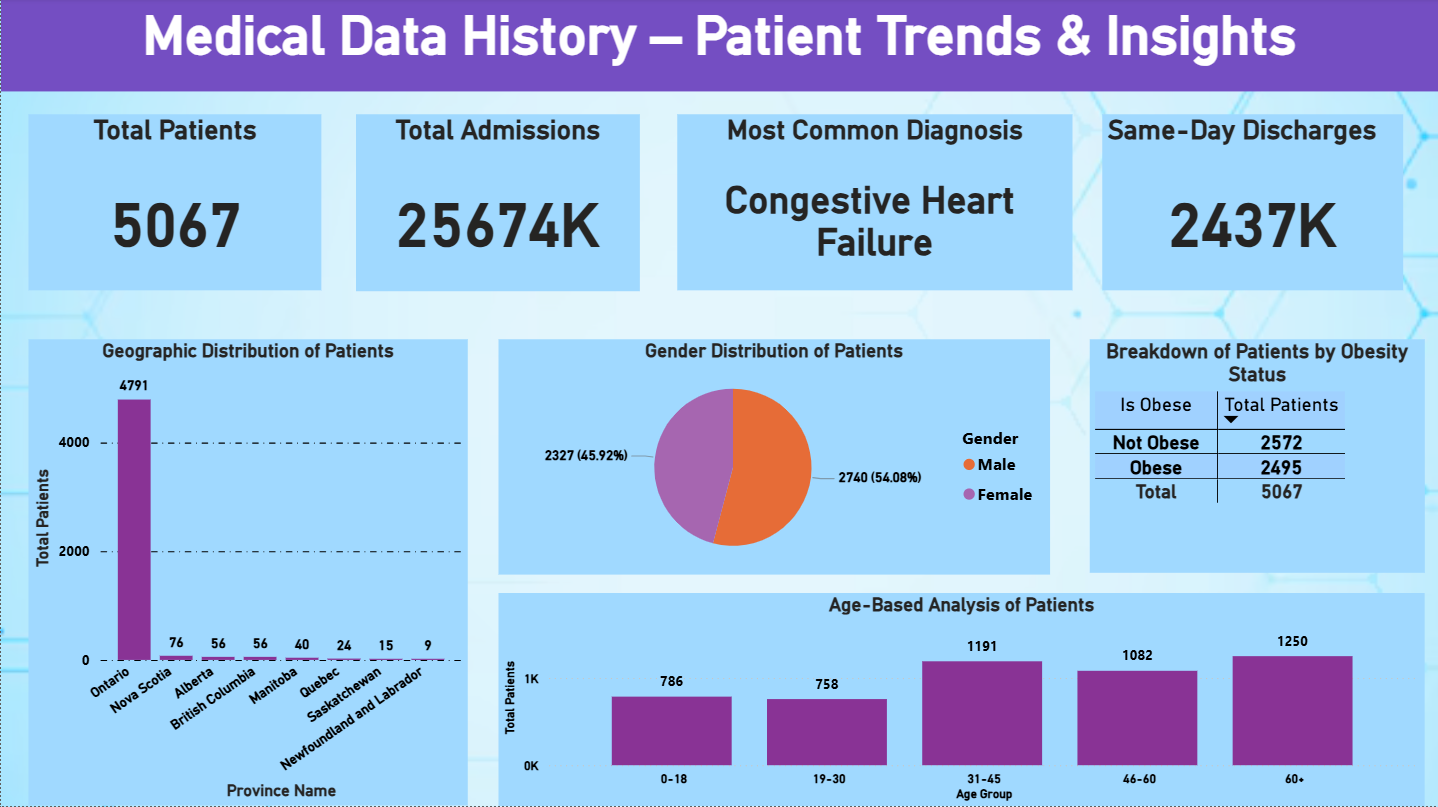

What the dashboard file says about the page in this screenshot:
{"tool":"powerbi","page":{"name":"Medical Data History Analysis","canvas":[1280,720],"ordinal":0},"visuals":[{"type":"textbox","box":[0,0,1280.2,83.5],"z":0},{"type":"pieChart","title":"Gender Distribution of Patients","fields":{"Category":["Project2.gender"],"Y":["Project2.Total Patients"]},"box":[443,303.9,490.9,209.3],"z":1000},{"type":"card","title":"Total Patients","fields":{"Values":["Project2.Total Patients"]},"box":[24.4,103.3,261.1,156.7],"z":2000},{"type":"card","title":"Total Admissions","fields":{"Values":["Sum(Project2.Total Admissions)"]},"box":[316,103.9,252.5,157.3],"z":3000},{"type":"card","title":"Most Common Diagnosis","fields":{"Values":["Min(Project2.Most Common Diagnosis)"]},"box":[602.2,103.3,352.2,156.7],"z":4000},{"type":"card","title":"Same-Day Discharges","fields":{"Values":["Sum(Project2.Same-Day Discharges)"]},"box":[981.1,103.3,267.8,156.7],"z":5000},{"type":"columnChart","title":"Geographic Distribution of Patients","fields":{"Category":["Project2.province_name"],"Y":["Project2.Total Patients"]},"box":[24.4,304.4,391.1,415.6],"z":6000},{"type":"columnChart","title":"Age-Based Analysis of Patients","fields":{"Category":["Project2.Age Group"],"Y":["Project2.Total Patients"]},"box":[443,529.9,824.9,190.4],"z":7000},{"type":"pivotTable","title":"Breakdown of Patients by Obesity Status","fields":{"Rows":["Project2.Is Obese"],"Values":["Project2.Total Patients"]},"box":[969.6,303.9,298.3,208.2],"z":8000}]}

Visuals, with their boxes in screenshot pixels (x1, y1, x2, y2), scaled from the page's 1280x720 canvas onto the 1438x807 screenshot:
textbox: (0, 0, 1437, 94)
"Gender Distribution of Patients" pieChart: (498, 341, 1049, 575)
"Total Patients" card: (27, 116, 321, 291)
"Total Admissions" card: (355, 116, 639, 293)
"Most Common Diagnosis" card: (677, 116, 1072, 291)
"Same-Day Discharges" card: (1102, 116, 1403, 291)
"Geographic Distribution of Patients" columnChart: (27, 341, 467, 806)
"Age-Based Analysis of Patients" columnChart: (498, 594, 1424, 806)
"Breakdown of Patients by Obesity Status" pivotTable: (1089, 341, 1424, 574)
